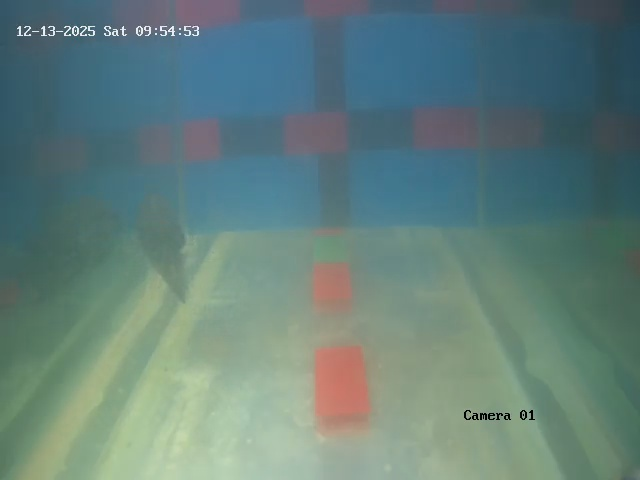fish: (122, 177, 219, 306)
